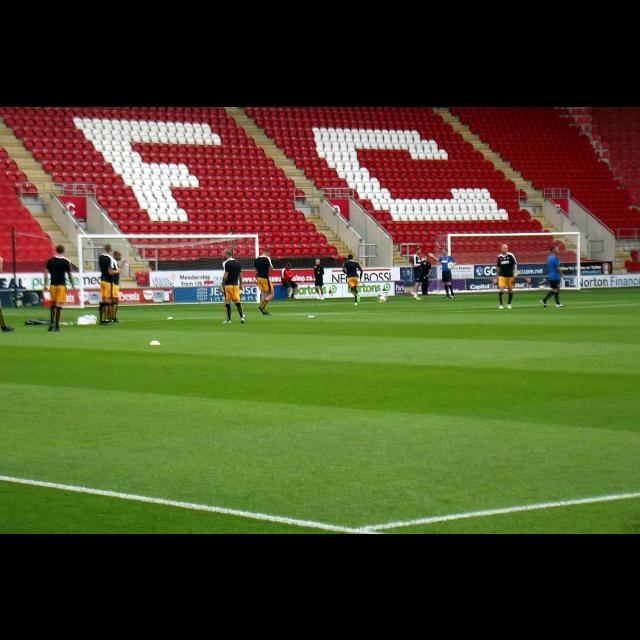Football: (378, 292, 388, 302), (448, 260, 452, 266)
